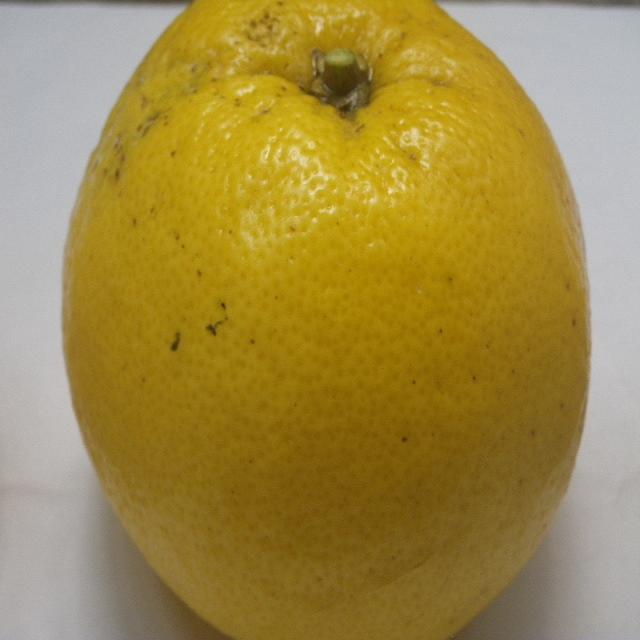Orange: (60, 3, 586, 640)
